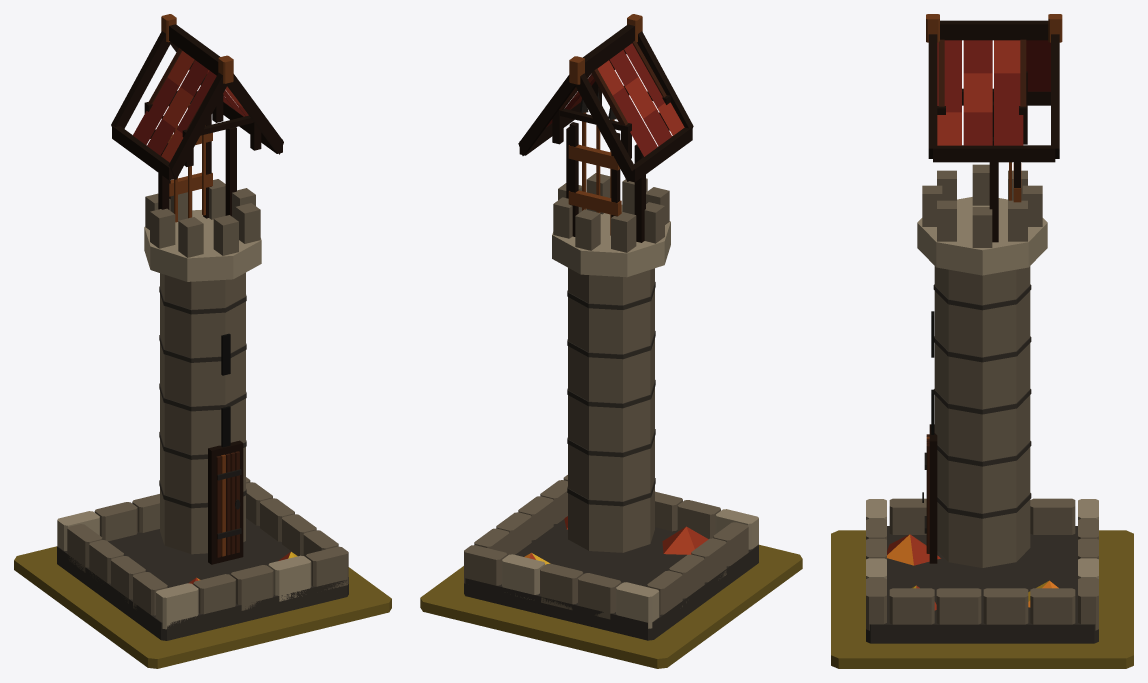
The model's file is archer_tower_t2.glb.
3 renders of one model, left to right at view 1: azimuth 30°, elevation 25°; view 2: azimuth 150°, elevation 25°; view 3: azimuth 270°, elevation 25°, orthographic. The views are drawn at different scales.
Visible parts, largest first — view 1: MMR | archer_tower | T02 Architecture.001, MMR | archer_tower | Tier 02 Ground.001, MMR | archer_tower | T02 Roof Supports.001; view 2: MMR | archer_tower | T02 Architecture.001, MMR | archer_tower | Tier 02 Ground.001, MMR | archer_tower | T02 Roof Supports.001, MMR | archer_tower | T02 Autumn Dressing.001; view 3: MMR | archer_tower | T02 Architecture.001, MMR | archer_tower | Tier 02 Ground.001, MMR | archer_tower | T02 Roof Supports.001, MMR | archer_tower | T02 Autumn Dressing.001.
Part boxes in pixels (x1,y1,x2,y2): MMR | archer_tower | T02 Architecture.001: [57, 14, 348, 640]; MMR | archer_tower | Tier 02 Ground.001: [14, 546, 391, 668]; MMR | archer_tower | T02 Roof Supports.001: [144, 48, 261, 166]; MMR | archer_tower | T02 Architecture.001: [464, 14, 758, 640]; MMR | archer_tower | Tier 02 Ground.001: [420, 544, 802, 668]; MMR | archer_tower | T02 Roof Supports.001: [552, 41, 670, 158]; MMR | archer_tower | T02 Autumn Dressing.001: [524, 516, 708, 564]; MMR | archer_tower | T02 Architecture.001: [866, 14, 1098, 643]; MMR | archer_tower | Tier 02 Ground.001: [831, 530, 1133, 668]; MMR | archer_tower | T02 Roof Supports.001: [937, 39, 1027, 144]; MMR | archer_tower | T02 Autumn Dressing.001: [887, 534, 1058, 610].
Size of the model in its own units: 1.3 by 2.78 by 1.3.
1 material, 1 textured.
